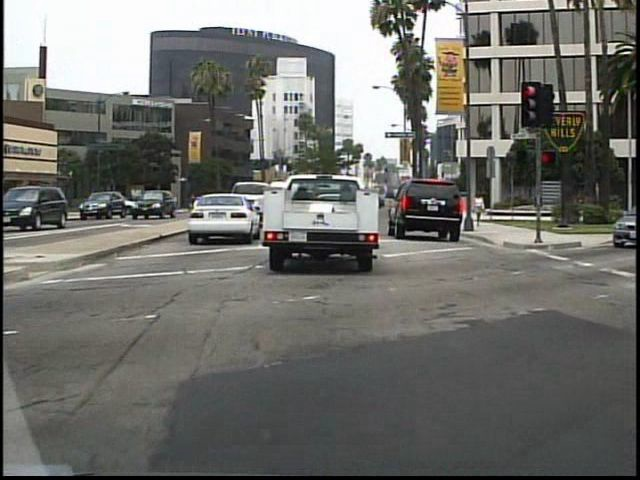person: (87, 189, 106, 222), (473, 188, 487, 230)
